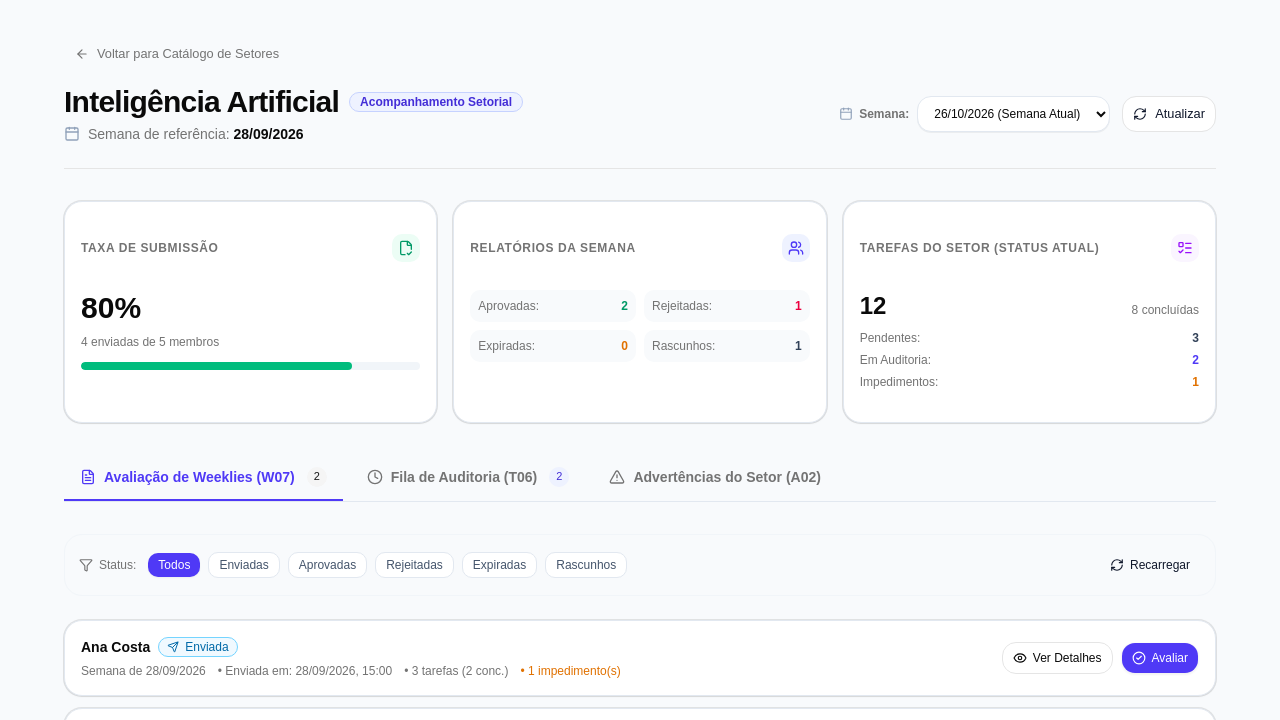
SectorTracking Page › permite alternar para a aba de auditoria e lista tarefas via T06
This screenshot has width=1280, height=720.
Expected: the heading "Inteligência Artificial" is shown, [64,84,339,120]
Click the button "Fila de Auditoria (T06) 2". click: (468, 478)
box: [351,455,585,501]
(page scrolled)
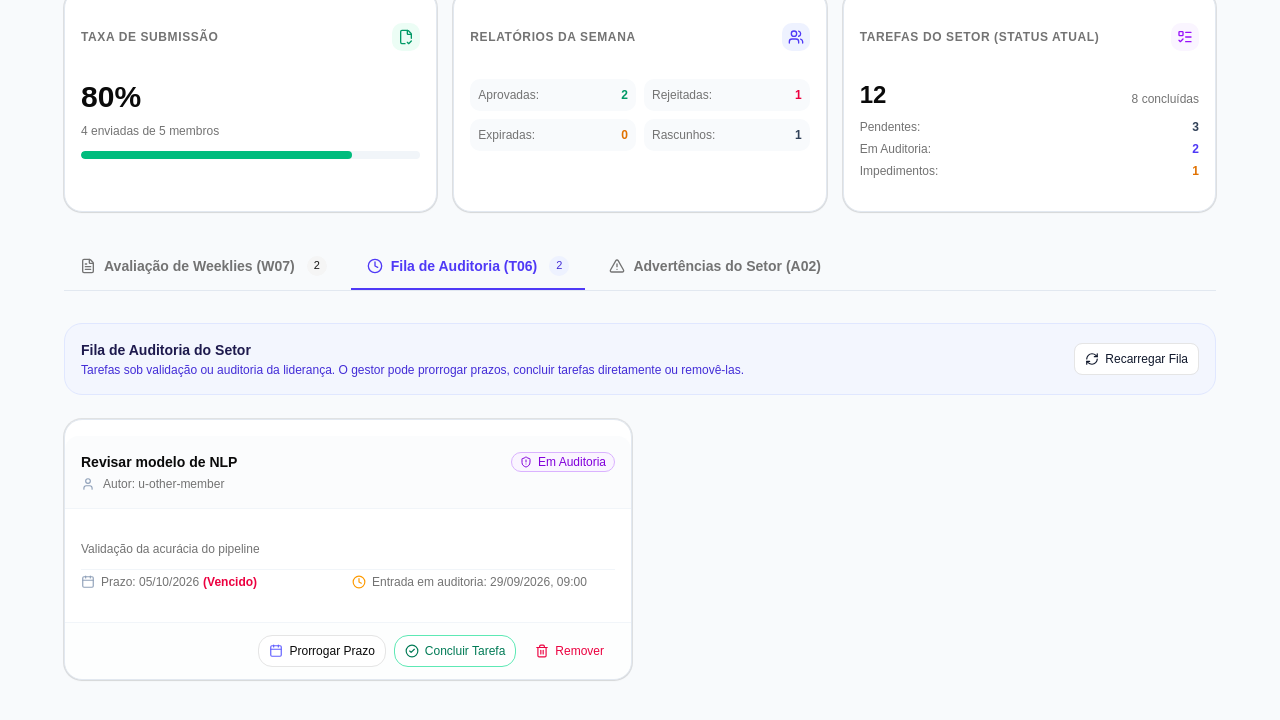
Expected: the heading "Revisar modelo de NLP" is shown, [81,452,237,472]
Expected: the text "Validação da acurácia do pipeline" is shown, [81,542,260,556]
Expected: the text "Autor: u-other-member" is shown, [103,476,224,492]
